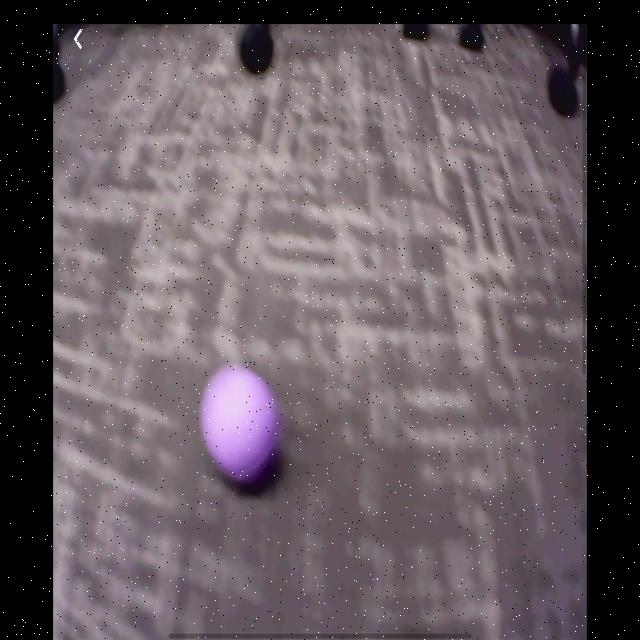ball: (199, 363, 284, 491)
